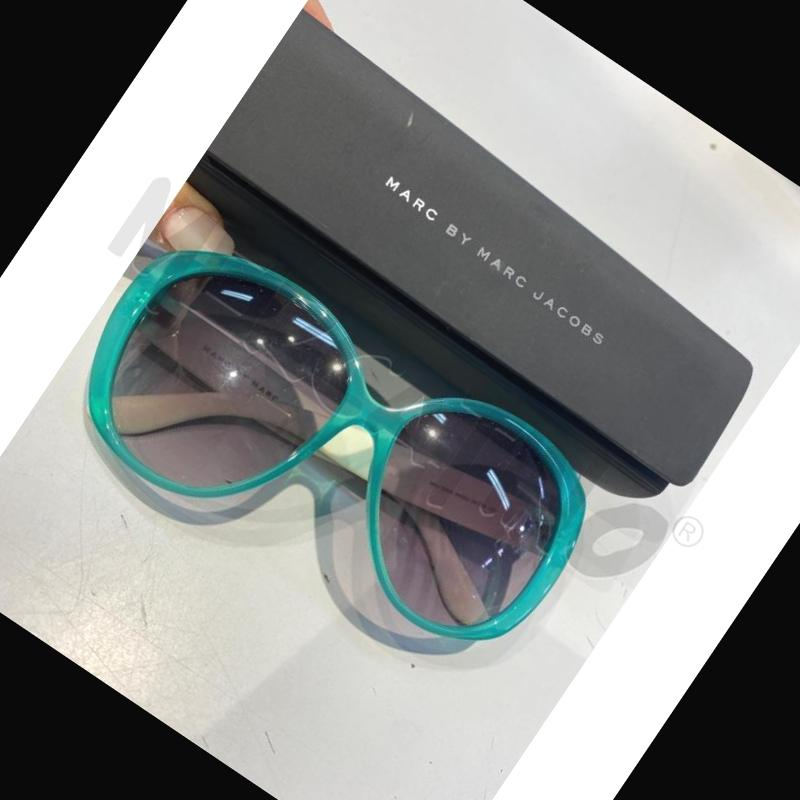MARC-JACOBS: (472, 246, 610, 346)
